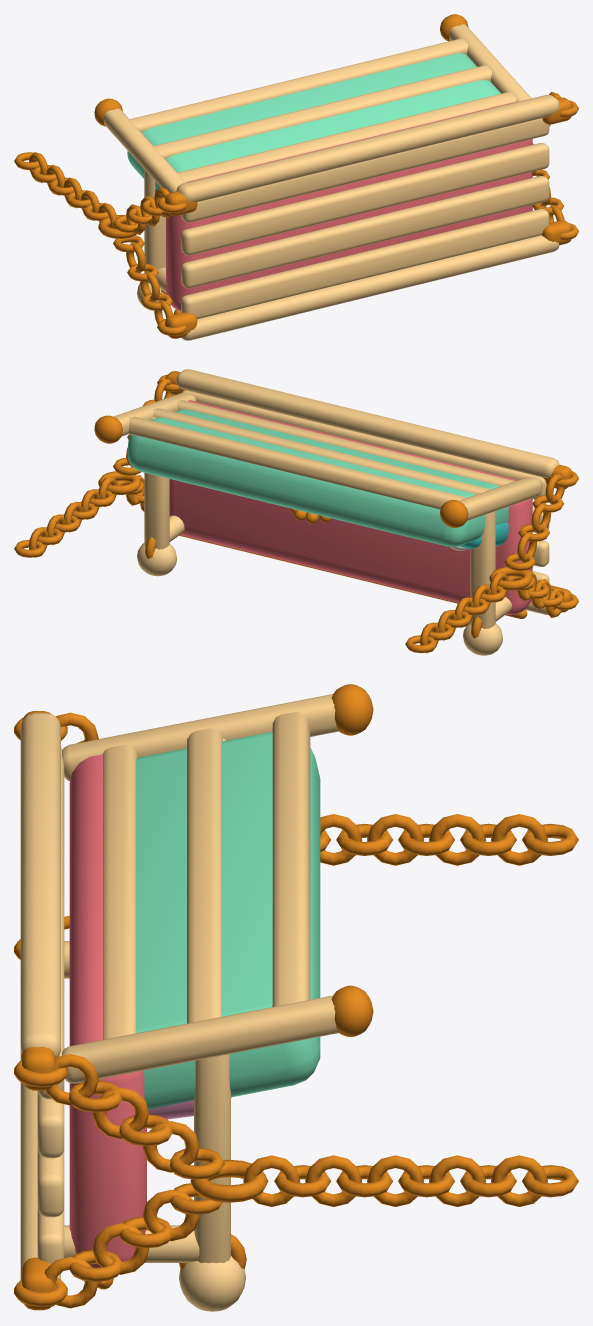
Rendered from PatioPorchSwingSeat_Premium.fbx.
The picture shows the model from 3 angles, top to bottom: view 1: azimuth 30°, elevation 25°; view 2: azimuth 150°, elevation 25°; view 3: azimuth 270°, elevation 25°; orthographic projection. The views are drawn at different scales.
Visible parts, largest first — view 1: PorchSwingSeat; view 2: PorchSwingSeat; view 3: PorchSwingSeat.
Boxes of the visible parts, x1,y1,x2,y2 form: PorchSwingSeat: (14, 14, 578, 340); PorchSwingSeat: (14, 369, 578, 655); PorchSwingSeat: (14, 684, 578, 1311).
Bounding box in the file's own units: 1.32 × 0.5387 × 0.8395.
